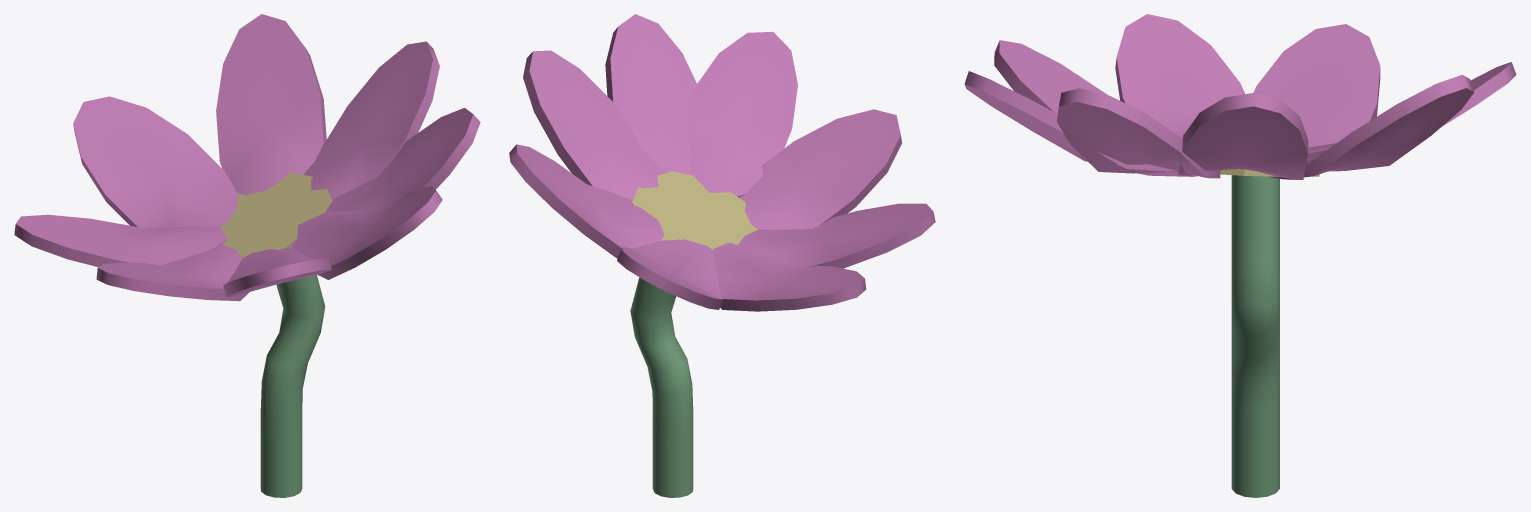
Rendered from bloemetje.fbx.
3 views of the same model, side by side, from view 1: azimuth 30°, elevation 25°; view 2: azimuth 150°, elevation 25°; view 3: azimuth 270°, elevation 25° (orthographic). The views are drawn at different scales.
Visible parts, largest first — view 1: pCylinder10, pCylinder9, pCylinder3, pCylinder1, pCylinder8, pCylinder5, pCylinder4, pCylinder2, pCylinder7, pCylinder6; view 2: pCylinder5, pCylinder6, pCylinder3, pCylinder4, pCylinder1, pCylinder7, pCylinder8, pCylinder10, pCylinder2, pCylinder9; view 3: pCylinder1, pCylinder8, pCylinder7, pCylinder3, pCylinder4, pCylinder10, pCylinder6, pCylinder5, pCylinder9.
Part boxes in pixels (box(x1,y1,x2,y2)): pCylinder10: box(216, 14, 326, 195); pCylinder9: box(73, 96, 237, 227); pCylinder3: box(303, 41, 439, 198); pCylinder1: box(260, 275, 325, 497); pCylinder8: box(14, 214, 227, 267); pCylinder5: box(291, 186, 442, 279); pCylinder4: box(327, 107, 480, 211); pCylinder2: box(219, 172, 332, 258); pCylinder7: box(96, 244, 249, 301); pCylinder6: box(223, 246, 331, 297); pCylinder5: box(686, 31, 797, 197); pCylinder6: box(739, 109, 901, 229); pCylinder3: box(523, 50, 665, 200); pCylinder4: box(605, 14, 696, 174); pCylinder1: box(630, 277, 693, 497); pCylinder7: box(738, 203, 935, 268); pCylinder8: box(712, 243, 866, 311); pCylinder10: box(509, 144, 664, 258); pCylinder2: box(631, 171, 757, 249); pCylinder9: box(617, 239, 723, 309); pCylinder1: box(1231, 175, 1279, 497); pCylinder8: box(1253, 24, 1380, 147); pCylinder7: box(1115, 14, 1244, 138); pCylinder3: box(1178, 92, 1308, 179); pCylinder4: box(1057, 88, 1220, 178); pCylinder10: box(1268, 74, 1474, 179); pCylinder6: box(994, 40, 1197, 176); pCylinder5: box(964, 71, 1175, 171); pCylinder9: box(1308, 62, 1516, 171).
Bounding box in the file's own units: 2.52 × 2.63 × 2.76.
